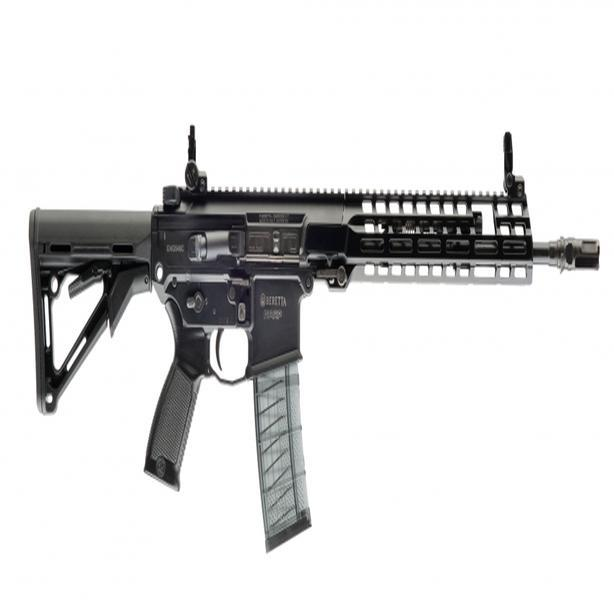Firearm: (14, 99, 607, 553)
